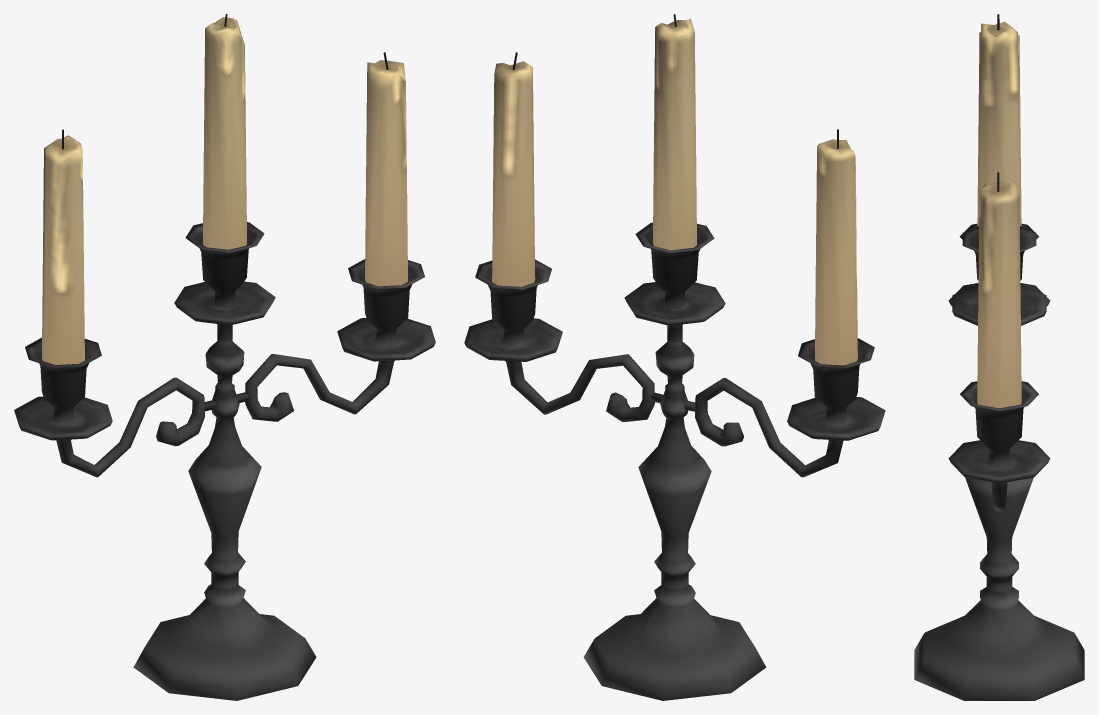
The model's file is Candlestick.fbx.
3 views of the same model, side by side, from view 1: azimuth 30°, elevation 25°; view 2: azimuth 150°, elevation 25°; view 3: azimuth 270°, elevation 25° (orthographic).
Parts seen in each view (by area): view 1: крепление; view 2: крепление; view 3: крепление.
Part boxes in pixels (left/top/right/bottom): крепление: left=14, top=14, right=435, bottom=700; крепление: left=464, top=14, right=885, bottom=700; крепление: left=914, top=14, right=1084, bottom=700.
Size of the model in its own units: 43.91 by 66.06 by 15.76.
3 materials, 2 textured.
